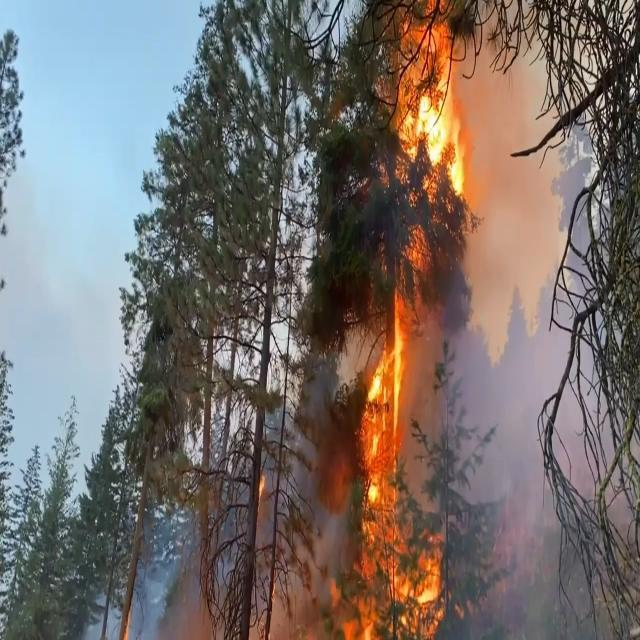Fire: (329, 8, 472, 640)
